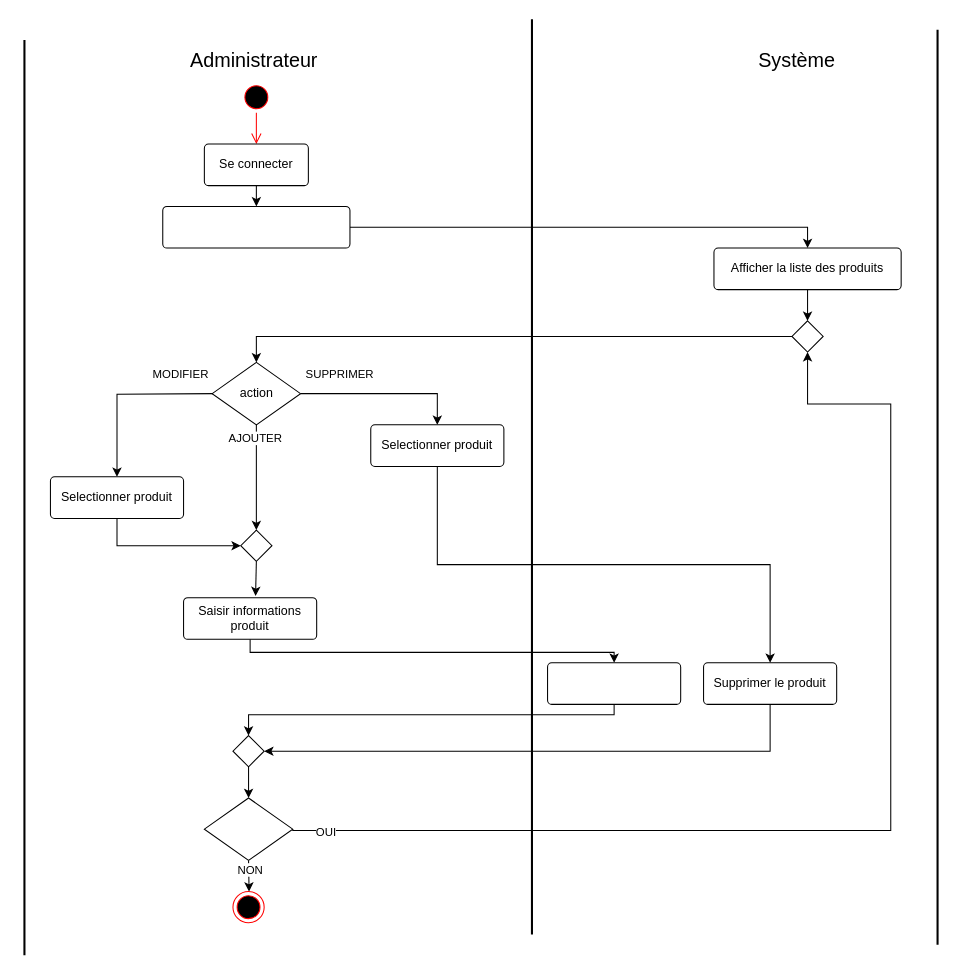
The diagram is 961 pixels wide and 973 high, and some of its shapes have lost their labels. The centre of each missing label's shape, as x and y in pixels:
Acceder à la gestion des produits: (256,226)
Mettre a jour le produit saisit: (614,683)
nouvelle action: (248,828)
